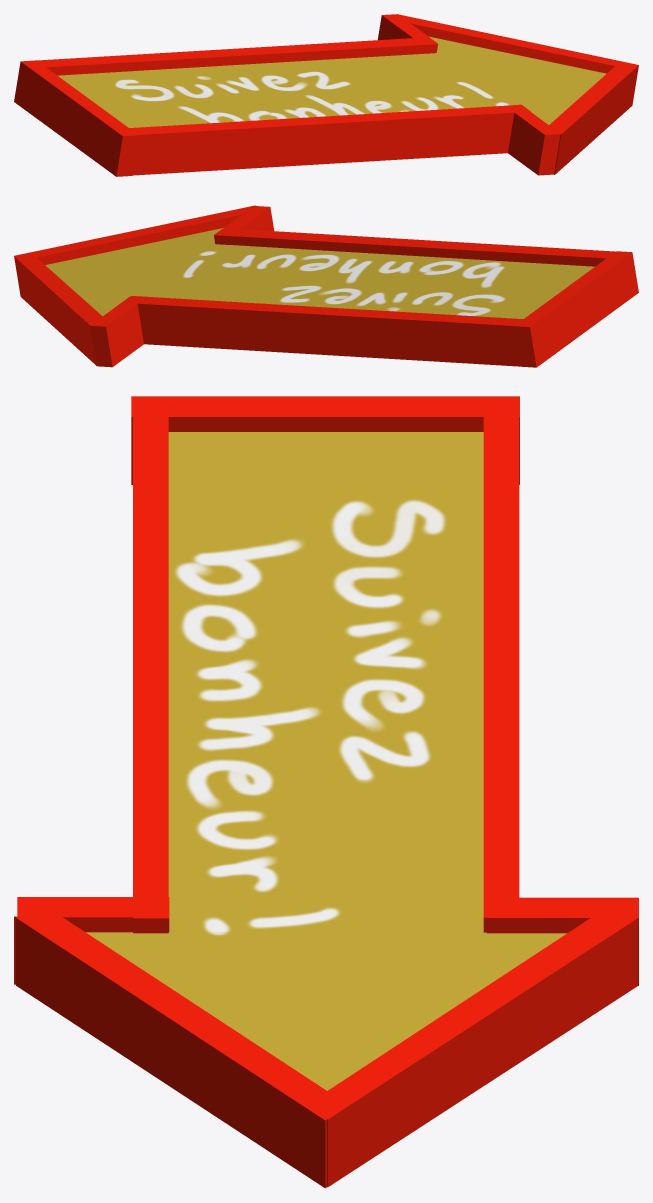
File: arrow.glb
The picture shows the model from 3 angles, top to bottom: view 1: azimuth 30°, elevation 25°; view 2: azimuth 150°, elevation 25°; view 3: azimuth 270°, elevation 25°; orthographic projection. The views are drawn at different scales.
Visible parts, largest first — view 1: Cube; view 2: Cube; view 3: Cube.
Part boxes in pixels (box(x1,y1,x2,y2)): Cube: box(14, 14, 638, 176); Cube: box(14, 205, 638, 367); Cube: box(14, 396, 638, 1188).
Size of the model in its own units: 7.82 by 1.87 by 3.89.
1 material, 1 textured.
